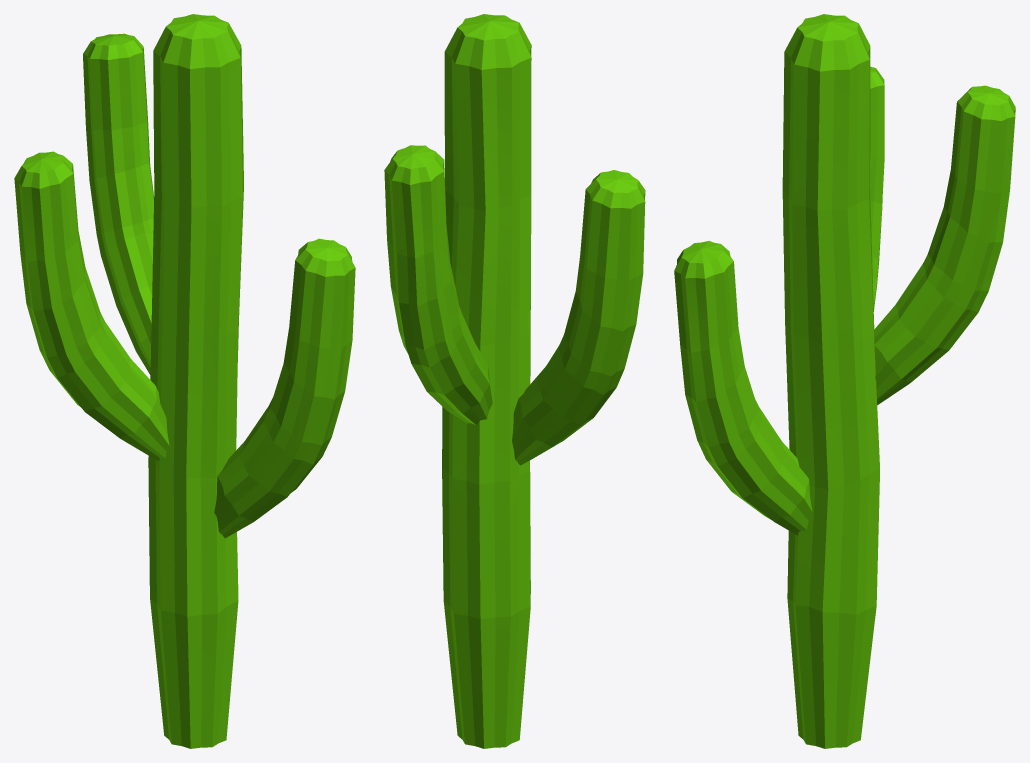
The model's file is Cactus B.obj.
The picture shows the model from 3 angles, left to right: view 1: azimuth 30°, elevation 25°; view 2: azimuth 150°, elevation 25°; view 3: azimuth 270°, elevation 25°; orthographic projection.
Parts seen in each view (by area): view 1: Cactus_B; view 2: Cactus_B; view 3: Cactus_B.
Part boxes in pixels (bbox=[...]): Cactus_B: bbox=[14, 14, 355, 748]; Cactus_B: bbox=[384, 14, 645, 748]; Cactus_B: bbox=[674, 14, 1015, 748].
Bounding box in the file's own units: 0.7718 × 2.04 × 0.8866.
